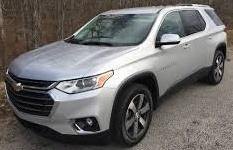SUV: (7, 6, 227, 146)
